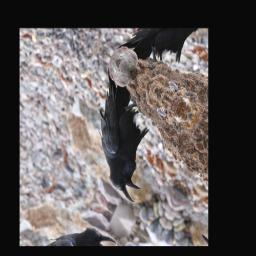Crow: (68, 67, 174, 204)
